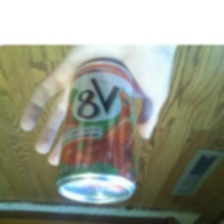can: (53, 59, 138, 206)
